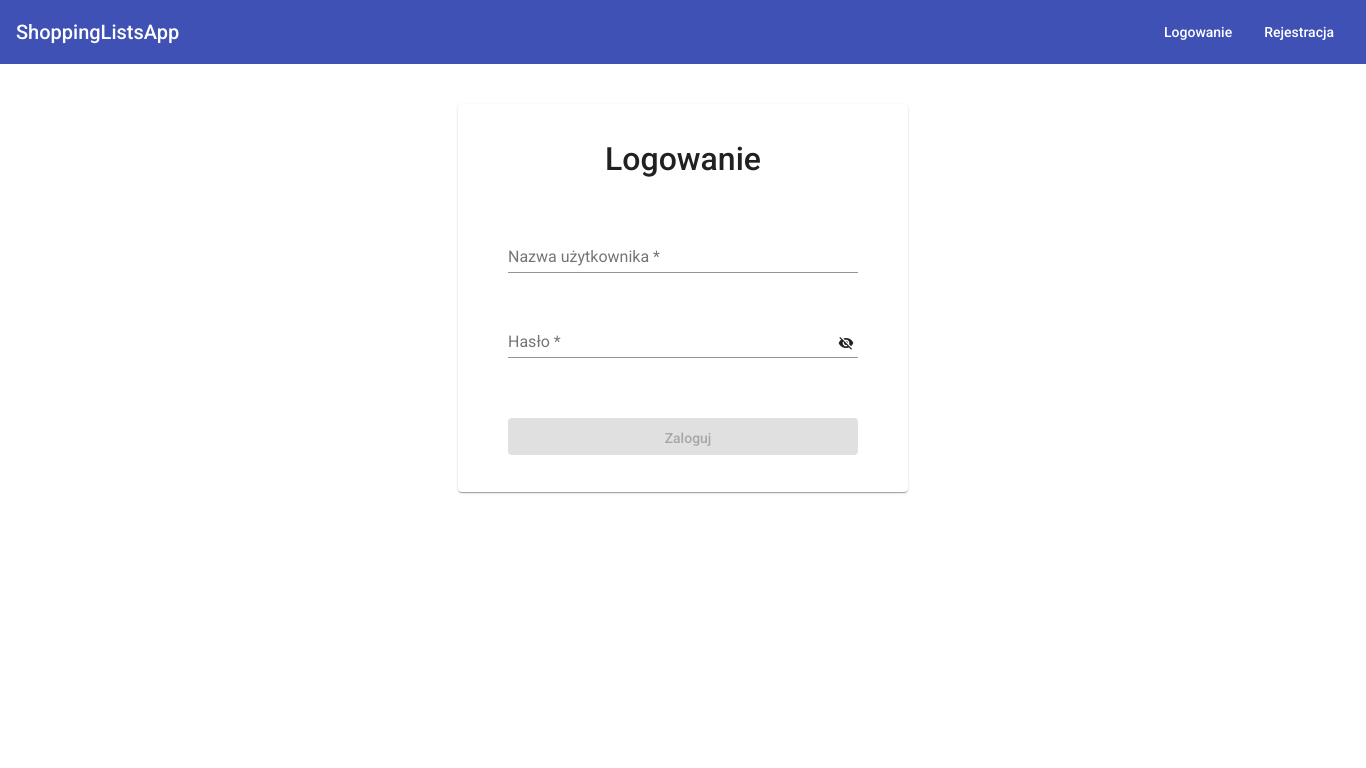
Register › click on register should redirect to register page
Click the button "Rejestracja" at (1299, 32), box [1248, 14, 1350, 50]
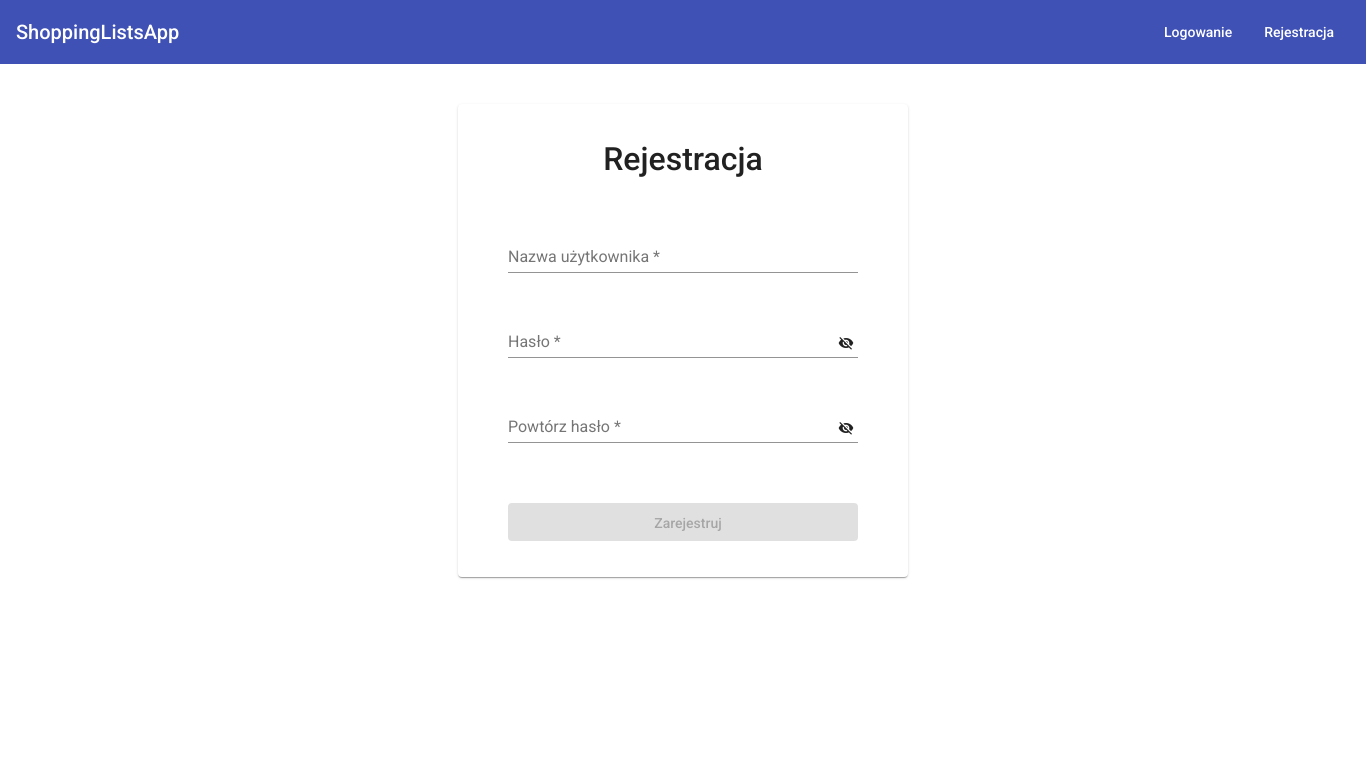
Expected: the button with class "register-btn" is disabled, [508, 503, 858, 540]
